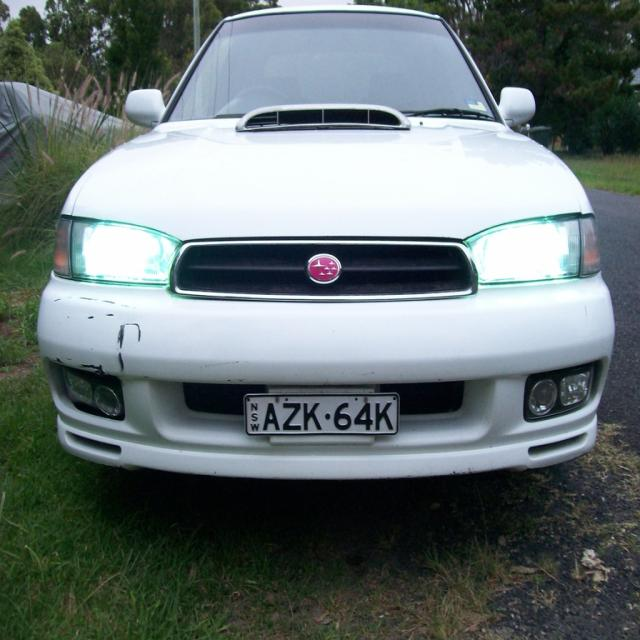car: (39, 17, 588, 505)
